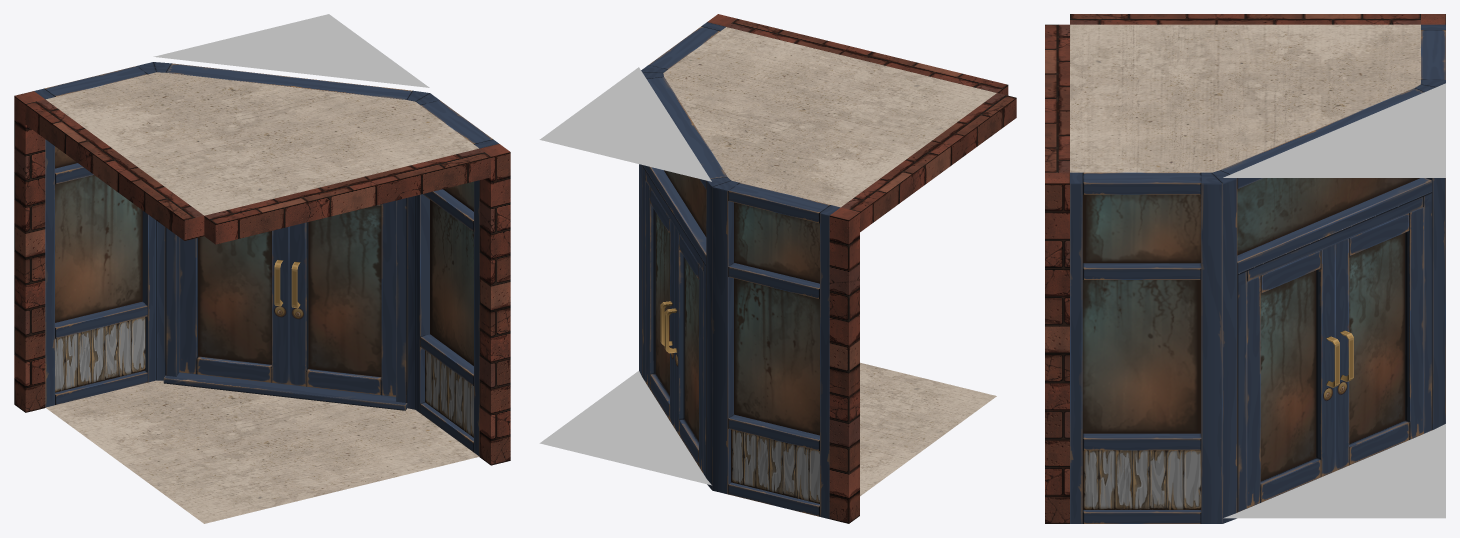
The model's file is storeFront04.FBX.
The picture shows the model from 3 angles, left to right: view 1: azimuth 30°, elevation 25°; view 2: azimuth 150°, elevation 25°; view 3: azimuth 270°, elevation 25°; orthographic projection. The views are drawn at different scales.
Visible parts, largest first — view 1: storeFront04, storeFront04_door_glassR, storeFront04_glass01, storeFront04_door_glassL, storeFront04_door_R, storeFront04_door_L, storeFront04_glass02; view 2: storeFront04, storeFront04_glass01, storeFront04_glass03, storeFront04_door_L, storeFront04_door_R, storeFront04_door_glassL, storeFront04_door_glassR, storeFront04_glass04; view 3: storeFront04, storeFront04_glass02, storeFront04_door_glassR, storeFront04_door_glassL, storeFront04_door_R, storeFront04_door_L, storeFront04_glass05, storeFront04_glass04.
Boxes of the visible parts, bbox=[...] form: storeFront04: bbox=[14, 14, 510, 523]; storeFront04_door_glassR: bbox=[308, 205, 381, 376]; storeFront04_glass01: bbox=[55, 175, 142, 322]; storeFront04_door_glassL: bbox=[198, 231, 271, 364]; storeFront04_door_R: bbox=[289, 200, 395, 396]; storeFront04_door_L: bbox=[179, 227, 288, 384]; storeFront04_glass02: bbox=[430, 200, 473, 365]; storeFront04: bbox=[539, 14, 1016, 523]; storeFront04_glass01: bbox=[734, 278, 819, 435]; storeFront04_glass03: bbox=[734, 202, 819, 283]; storeFront04_door_L: bbox=[664, 226, 703, 472]; storeFront04_door_R: bbox=[645, 181, 674, 427]; storeFront04_door_glassL: bbox=[684, 258, 698, 440]; storeFront04_door_glassR: bbox=[655, 212, 669, 395]; storeFront04_glass04: bbox=[664, 170, 706, 236]; storeFront04: bbox=[1045, 14, 1445, 523]; storeFront04_glass02: bbox=[1082, 280, 1201, 433]; storeFront04_door_glassR: bbox=[1260, 270, 1316, 480]; storeFront04_door_glassL: bbox=[1349, 233, 1405, 443]; storeFront04_door_R: bbox=[1246, 244, 1339, 508]; storeFront04_door_L: bbox=[1335, 207, 1423, 471]; storeFront04_glass05: bbox=[1082, 194, 1201, 263]; storeFront04_glass04: bbox=[1237, 178, 1419, 255].
Size of the model in its own units: 320 by 305 by 320.
